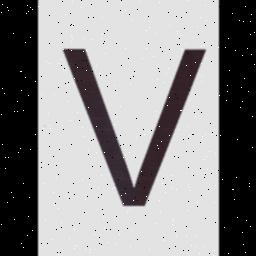v: (56, 43, 212, 213)
